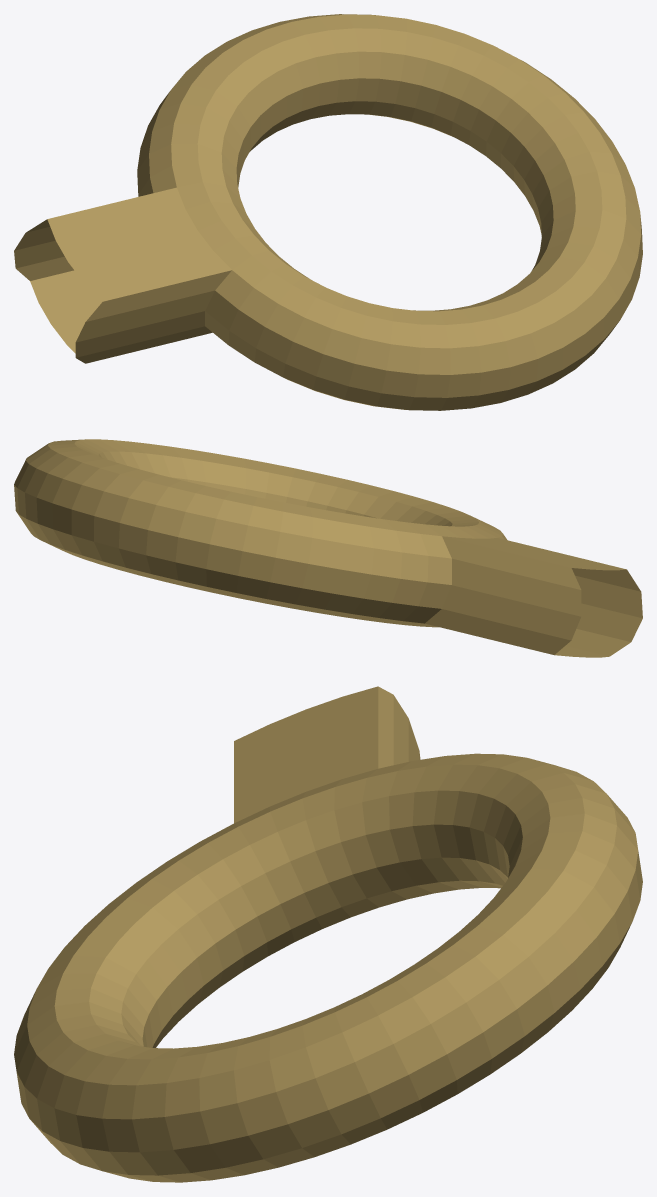
Rendered from chiavepezzo1.fbx.
The picture shows the model from 3 angles, top to bottom: view 1: azimuth 30°, elevation 25°; view 2: azimuth 150°, elevation 25°; view 3: azimuth 270°, elevation 25°; orthographic projection. The views are drawn at different scales.
Visible parts, largest first — view 1: Torus.004; view 2: Torus.004; view 3: Torus.004.
Boxes of the visible parts, x1,y1,x2,y2 form: Torus.004: (14, 14, 642, 410); Torus.004: (14, 439, 642, 657); Torus.004: (14, 686, 642, 1182).
Size of the model in its own units: 16.03 by 6.39 by 11.79.
